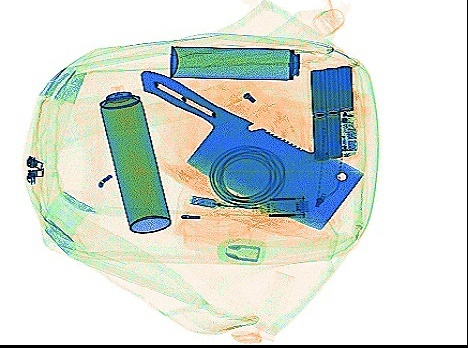knife: (138, 67, 362, 230)
powerbank: (308, 62, 362, 161)
pressure: (97, 80, 170, 235), (165, 44, 308, 80)
